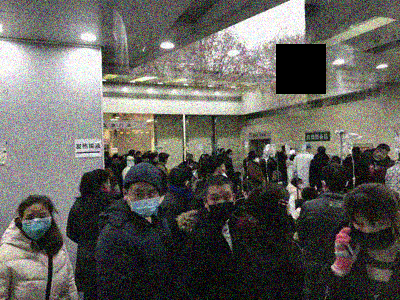with_mask: (350, 217, 395, 251), (129, 187, 161, 219), (21, 211, 53, 242), (208, 189, 234, 223), (377, 151, 389, 162), (255, 156, 260, 165), (155, 156, 161, 163), (299, 182, 304, 190), (229, 153, 234, 159)
without_mask: (112, 158, 119, 166)
